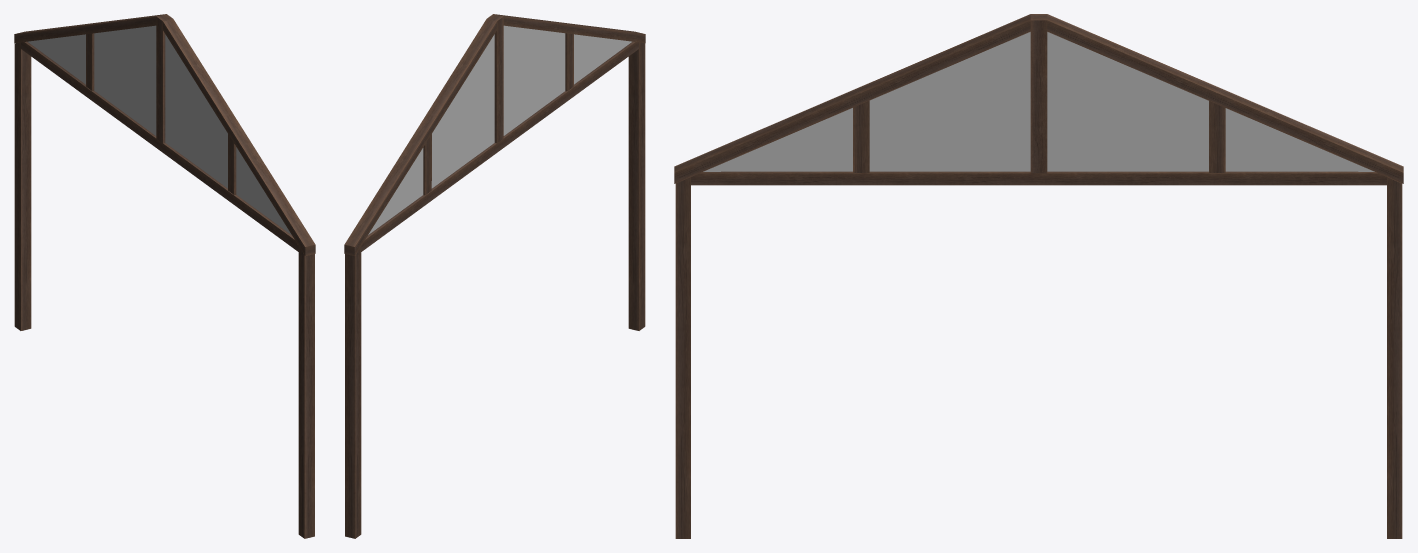
Rendered from yane_frame_4t_1f_1b.fbx.
3 renders of one model, left to right at view 1: azimuth 30°, elevation 25°; view 2: azimuth 150°, elevation 25°; view 3: azimuth 270°, elevation 25°, orthographic. The views are drawn at different scales.
Visible parts, largest first — view 1: yane_frame_4t_1f_1b; view 2: yane_frame_4t_1f_1b; view 3: yane_frame_4t_1f_1b.
Boxes of the visible parts, x1,y1,x2,y2 form: yane_frame_4t_1f_1b: (14,14,315,538); yane_frame_4t_1f_1b: (344,14,645,538); yane_frame_4t_1f_1b: (674,14,1403,538).
Bounding box in the file's own units: 18.5 × 708 × 902.
